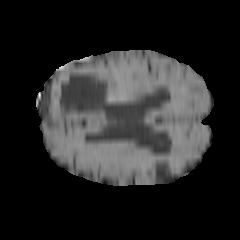glioma: (49, 67, 175, 144)
